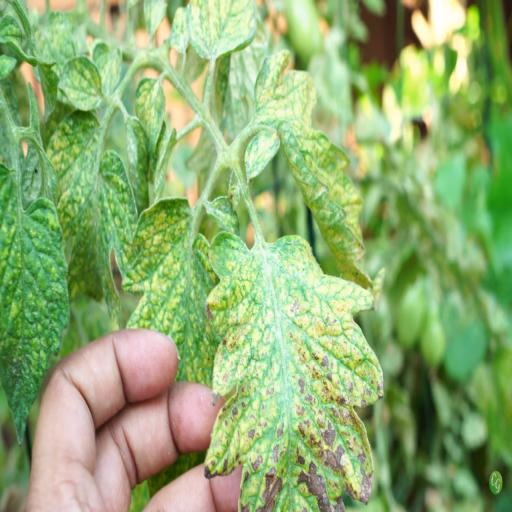Spider Mites: (206, 224, 384, 512), (254, 39, 387, 301), (0, 153, 71, 452), (118, 188, 220, 385), (46, 112, 138, 320), (182, 0, 259, 61), (57, 52, 103, 112), (134, 72, 166, 158), (244, 126, 281, 184)
